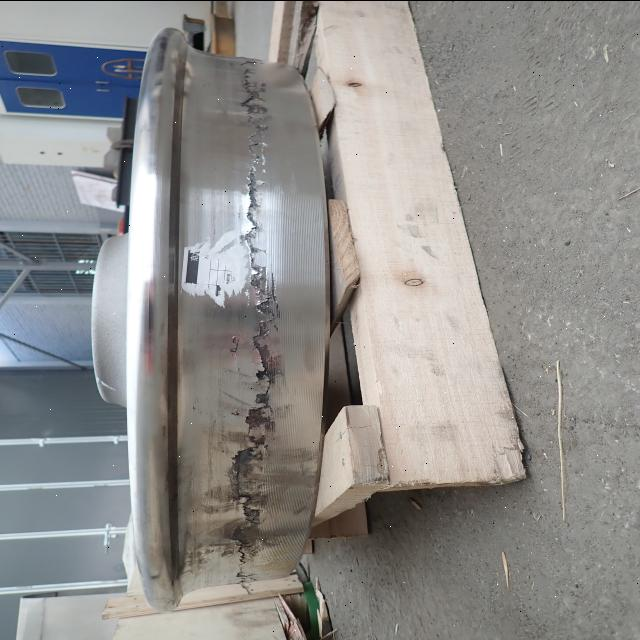boli: (234, 176, 288, 404), (218, 428, 276, 574), (224, 48, 284, 120)
